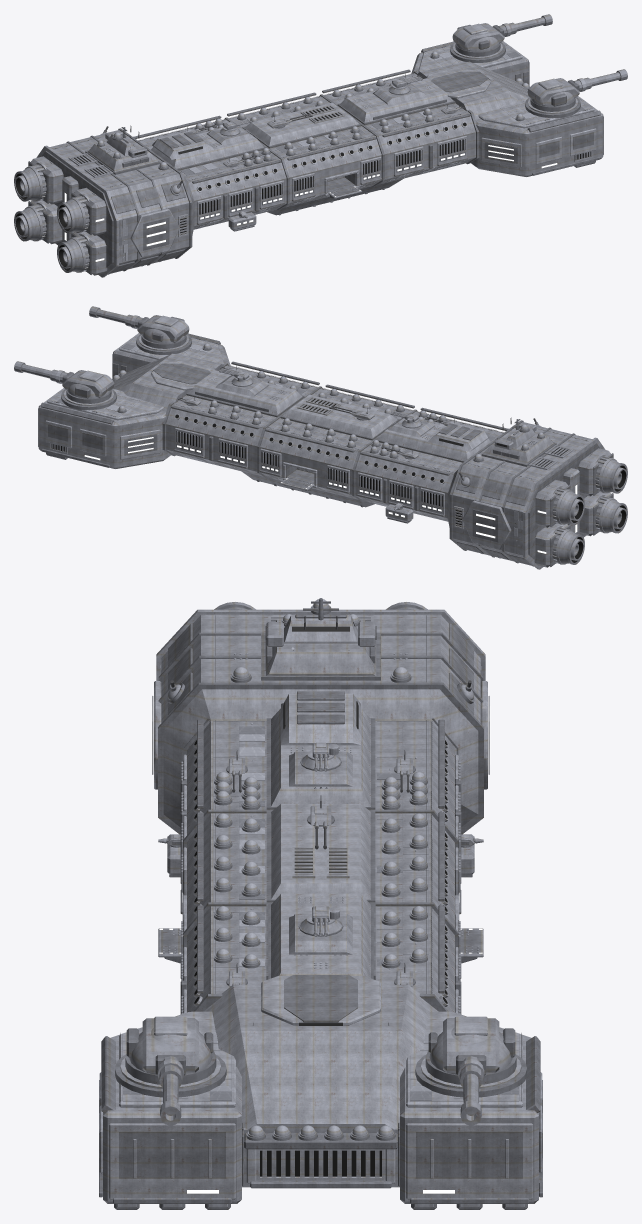
The picture shows the model from 3 angles, top to bottom: view 1: azimuth 30°, elevation 25°; view 2: azimuth 150°, elevation 25°; view 3: azimuth 270°, elevation 25°; orthographic projection. The views are drawn at different scales.
Parts seen in each view (by area): view 1: stern_mid, hull_fore_mid, stern_dark, hull_aft_mid, hull_mid_hull_mid, bow_prong_mid.R, hull_mid_light, hull_aft_light, hull_fore_light, bow_prong_light.R, hull_aft_dark, stern_light (+21 smaller); view 2: stern_mid, hull_fore_mid, stern_dark, hull_aft_mid, hull_mid_hull_mid, bow_prong_mid, hull_mid_light, hull_aft_light, hull_fore_light, bow_prong_light, hull_aft_dark, stern_light (+21 smaller); view 3: bow_centre_mid, stern_mid, hull_aft_mid, hull_fore_mid, hull_mid_hull_mid, stern_dark, hull_mid_light, bow_prong_dark, bow_prong_dark.R, hull_aft_light, bow_prong_light.R, bow_prong_light (+18 smaller).
Boxes of the visible parts, x1=… form: stern_mid: x1=31, y1=133, x2=193, y2=275; hull_fore_mid: x1=324, y1=73, x2=475, y2=183; stern_dark: x1=28, y1=128, x2=192, y2=274; hull_aft_mid: x1=138, y1=119, x2=286, y2=229; hull_mid_hull_mid: x1=229, y1=96, x2=381, y2=206; bow_prong_mid.R: x1=470, y1=96, x2=603, y2=176; hull_mid_light: x1=244, y1=102, x2=381, y2=201; hull_aft_light: x1=151, y1=131, x2=284, y2=224; hull_fore_light: x1=339, y1=78, x2=467, y2=176; bow_prong_light.R: x1=478, y1=96, x2=603, y2=167; hull_aft_dark: x1=133, y1=115, x2=289, y2=231; stern_light: x1=36, y1=145, x2=187, y2=277; stern_mid: x1=448, y1=425, x2=610, y2=567; hull_fore_mid: x1=166, y1=365, x2=317, y2=476; stern_dark: x1=449, y1=420, x2=613, y2=566; hull_aft_mid: x1=355, y1=411, x2=503, y2=521; hull_mid_hull_mid: x1=260, y1=388, x2=412, y2=499; bow_prong_mid: x1=38, y1=388, x2=171, y2=468; hull_mid_light: x1=260, y1=394, x2=397, y2=493; hull_aft_light: x1=357, y1=423, x2=490, y2=516; hull_fore_light: x1=174, y1=370, x2=302, y2=468; bow_prong_light: x1=38, y1=388, x2=163, y2=459; hull_aft_dark: x1=352, y1=407, x2=508, y2=523; stern_light: x1=454, y1=437, x2=605, y2=569; bow_centre_mid: x1=203, y1=984, x2=438, y2=1187; stern_mid: x1=161, y1=614, x2=480, y2=827; hull_aft_mid: x1=167, y1=721, x2=474, y2=874; hull_fore_mid: x1=181, y1=906, x2=460, y2=1014; hull_mid_hull_mid: x1=187, y1=813, x2=454, y2=927; stern_dark: x1=152, y1=623, x2=489, y2=834; hull_mid_light: x1=182, y1=804, x2=459, y2=947; bow_prong_dark: x1=398, y1=1036, x2=542, y2=1209; bow_prong_dark.R: x1=99, y1=1036, x2=243, y2=1209; hull_aft_light: x1=183, y1=693, x2=458, y2=847; bow_prong_light.R: x1=99, y1=1011, x2=235, y2=1199; bow_prong_light: x1=406, y1=1011, x2=542, y2=1199.
Bounding box in the file's own units: 1200 × 256 × 423.
7 materials, 4 textured.
